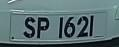1: (88, 14, 97, 38), (56, 16, 64, 40)
2: (76, 15, 89, 39)
6: (64, 15, 76, 40)
P: (37, 16, 50, 40)
S: (22, 16, 37, 40)
